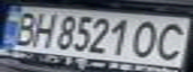1: (106, 16, 136, 57)
2: (90, 15, 112, 55)
5: (72, 14, 93, 53)
8: (51, 11, 78, 52)
B: (6, 9, 42, 47)
C: (148, 20, 193, 62)
H: (27, 9, 60, 48)
O: (127, 18, 166, 60)
